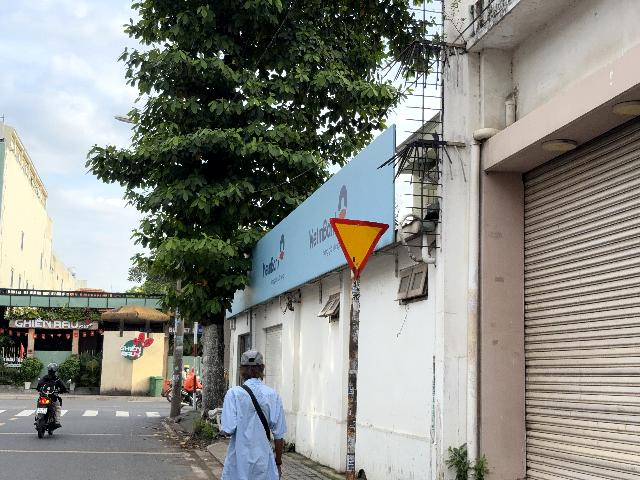giao-nhau-voi-duong-uu-tien: (329, 217, 390, 278)
